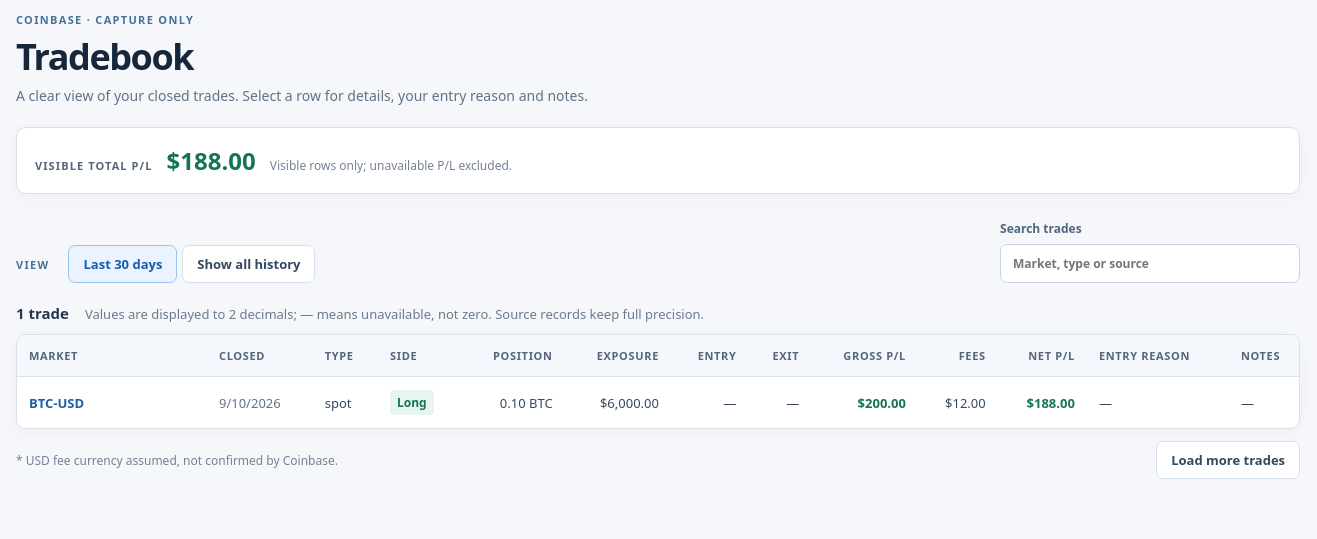
ignores overlapping load-more clicks and duplicate returned rows
The image size is (1317, 539).
Click the button "Load more trades".
click(1228, 460)  # box [1156,441,1300,479]
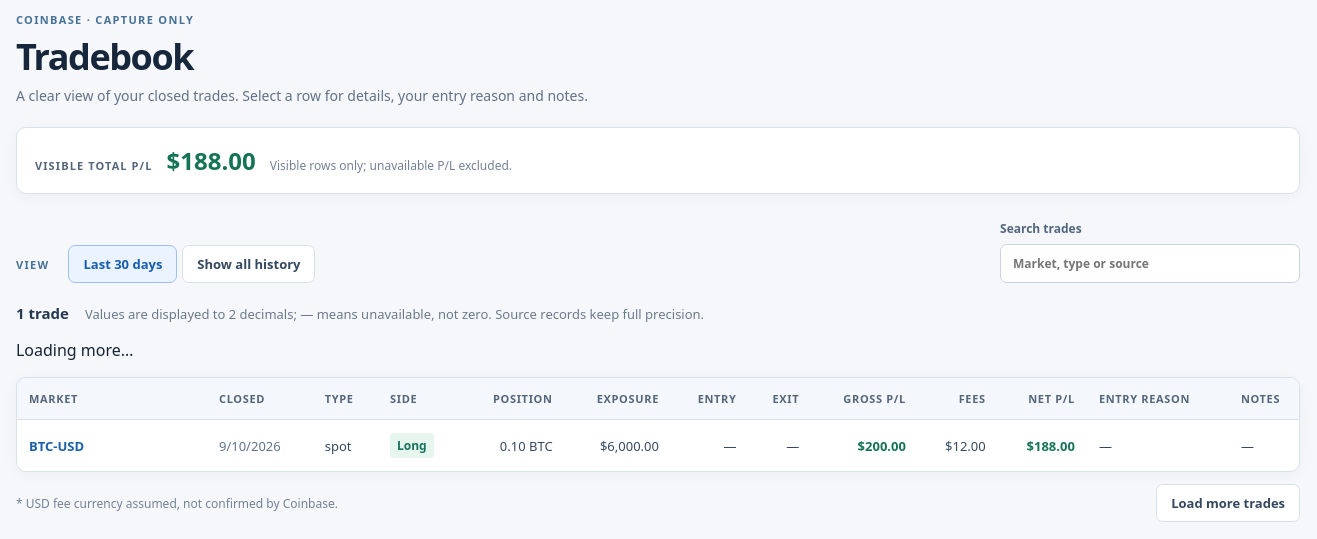
Click the button "Load more trades".
click(1228, 503)  # box [1156,484,1300,522]
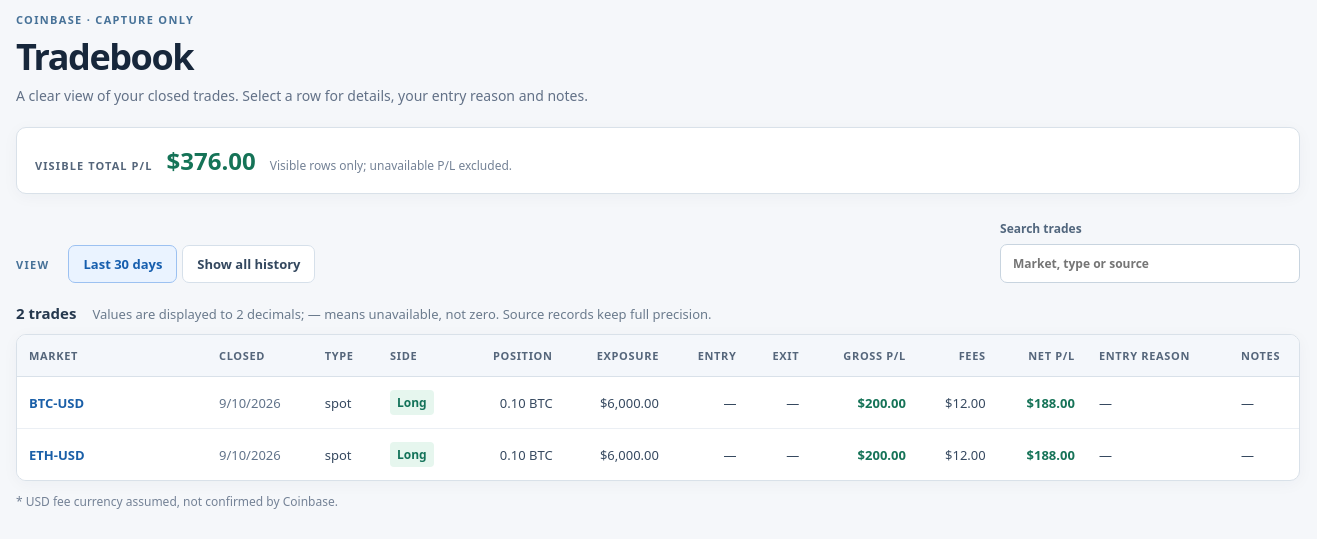
Check: the number of buttons "BTC-USD" is 1, box [29,394,84,412]
Check: the number of buttons "ETH-USD" is 1, box [29,446,85,464]
